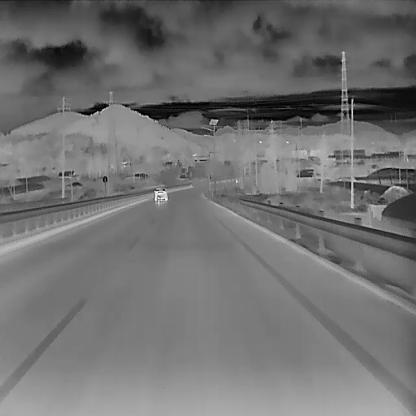car: (153, 187, 168, 201)
